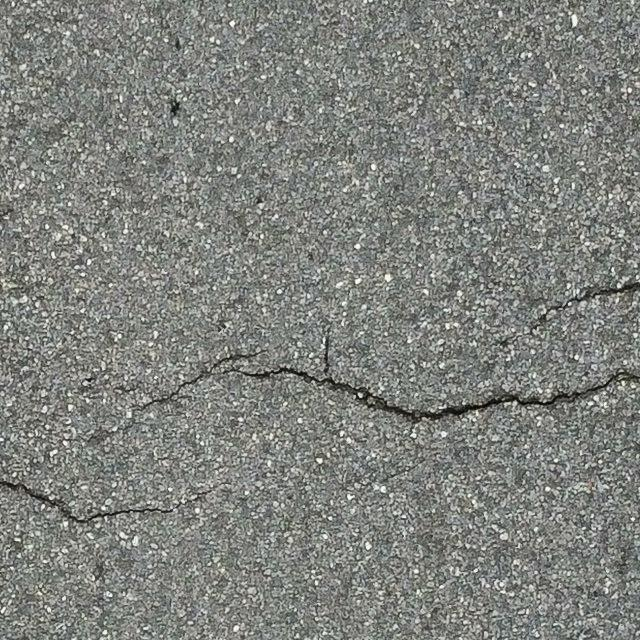TransverseCrack: (133, 351, 640, 420), (1, 480, 229, 524), (494, 282, 640, 346)
